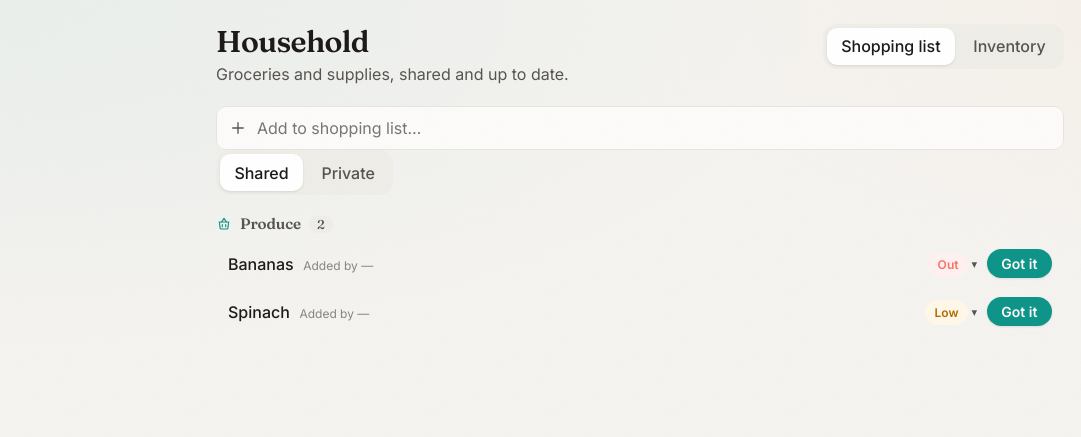
Test: HouseholdPage › switches to the Inventory tab and shows stocked items
What coordinates should you click on to do the following:
click the tab "Inventory"
I would click on:
 (1010, 46)
Its box is [959,28,1060,65].
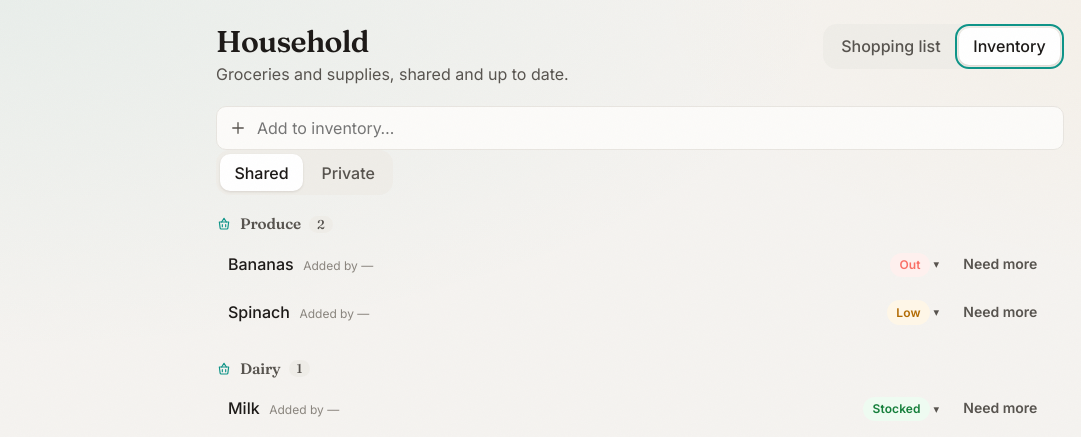
Check: the text "Bananas" is shown, box [228,252,294,276]
Check: the text "Milk" is shown, box [228,396,260,420]
